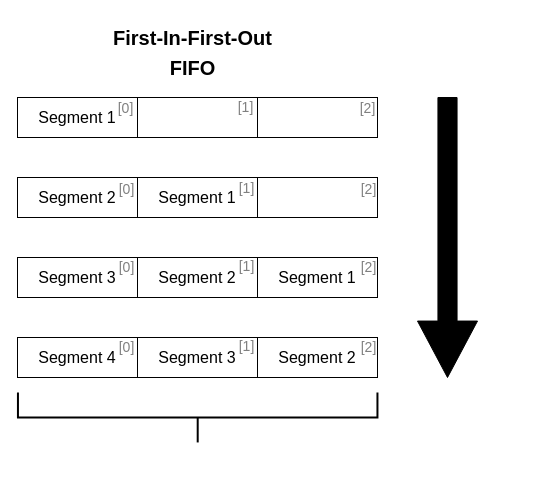
The diagram is 535 pixels wide and 492 high, and some of its shapes have lost their labels. The centre of each missing label's shape, as x and y in pixels:
"BufferLength [s]" goes at (x=197, y=417).
"Time" goes at (x=447, y=237).
